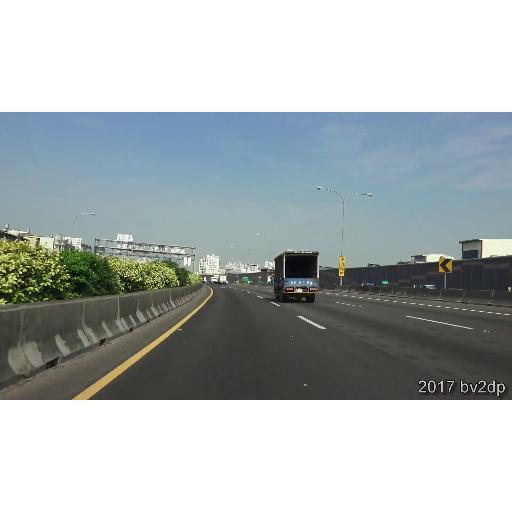Car: (273, 251, 319, 303), (218, 275, 227, 285), (210, 277, 218, 284)
